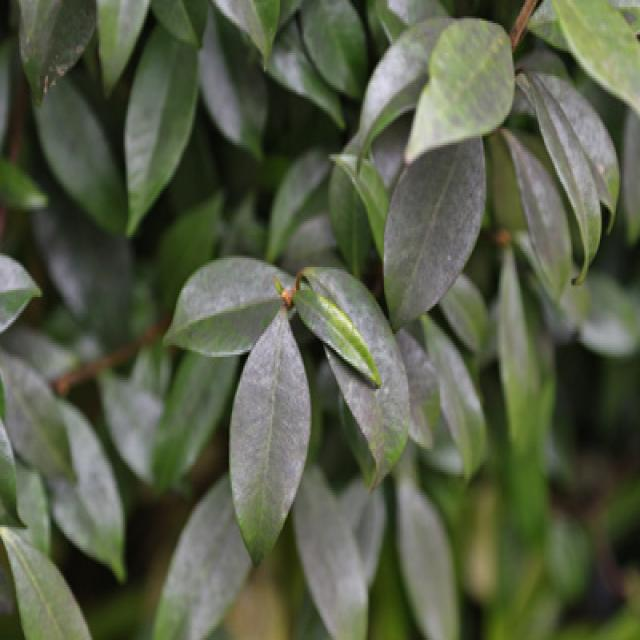Sooty Mold: (63, 0, 572, 538)
